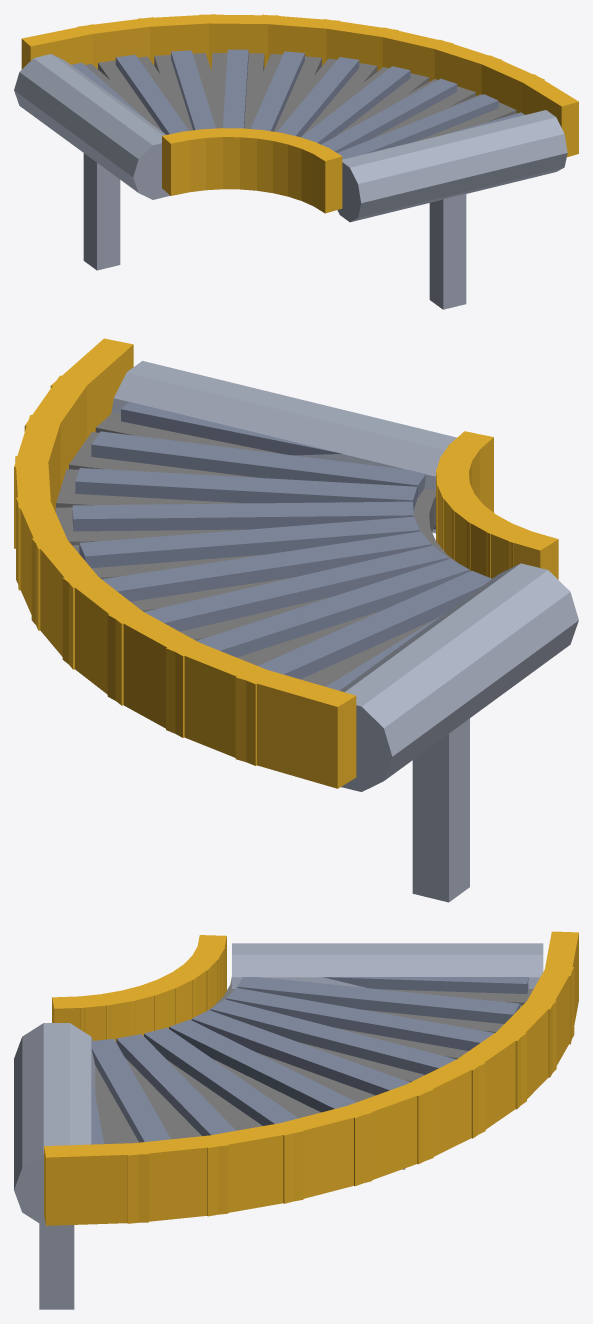
The model's file is conveyor_corner.glb.
3 renders of one model, top to bottom at view 1: azimuth 30°, elevation 25°; view 2: azimuth 150°, elevation 25°; view 3: azimuth 270°, elevation 25°, orthographic. The views are drawn at different scales.
Visible parts, largest first — view 1: conveyor_corner; view 2: conveyor_corner; view 3: conveyor_corner.
Part boxes in pixels (x1,y1,x2,y2): conveyor_corner: [14, 14, 578, 309]; conveyor_corner: [14, 338, 578, 902]; conveyor_corner: [14, 931, 578, 1309].
Bounding box in the file's own units: 1.5 × 0.66 × 1.5.
